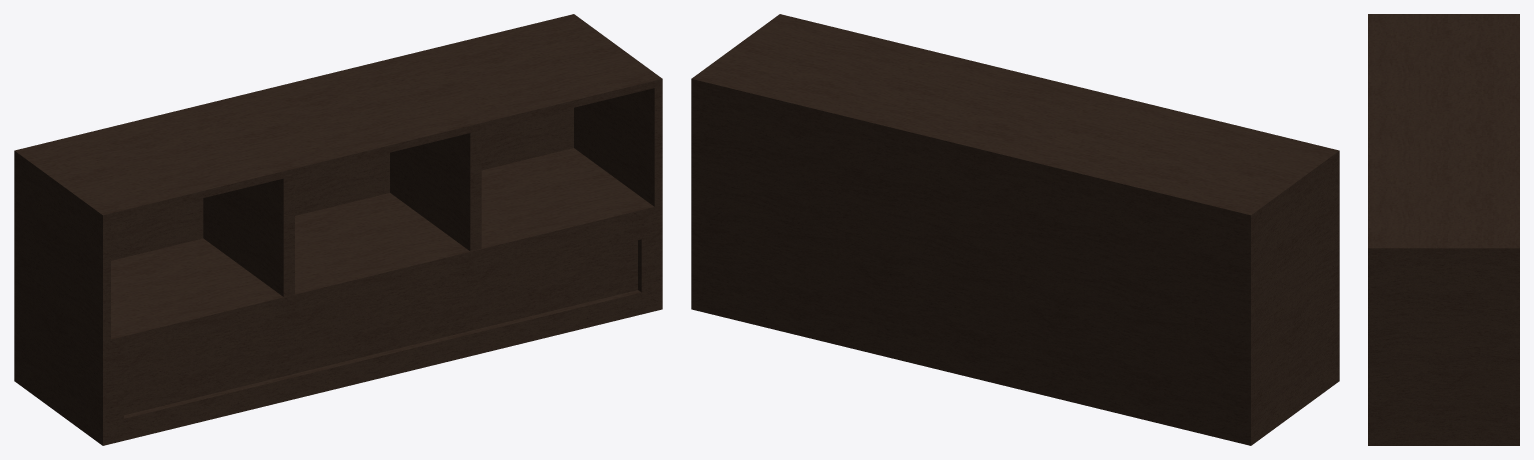
The model's file is shelfSmallEmpty.glb.
3 views of the same model, side by side, from view 1: azimuth 30°, elevation 25°; view 2: azimuth 150°, elevation 25°; view 3: azimuth 270°, elevation 25° (orthographic). The views are drawn at different scales.
Visible parts, largest first — view 1: ShelfSmallEmpty; view 2: ShelfSmallEmpty; view 3: ShelfSmallEmpty.
Part boxes in pixels (x1=…): ShelfSmallEmpty: x1=14, y1=14, x2=662, y2=445; ShelfSmallEmpty: x1=691, y1=14, x2=1339, y2=445; ShelfSmallEmpty: x1=1368, y1=14, x2=1519, y2=445.
Size of what is drawn, in the model's own units: 3.61 by 1.42 by 0.9891.
1 material, 1 textured.
